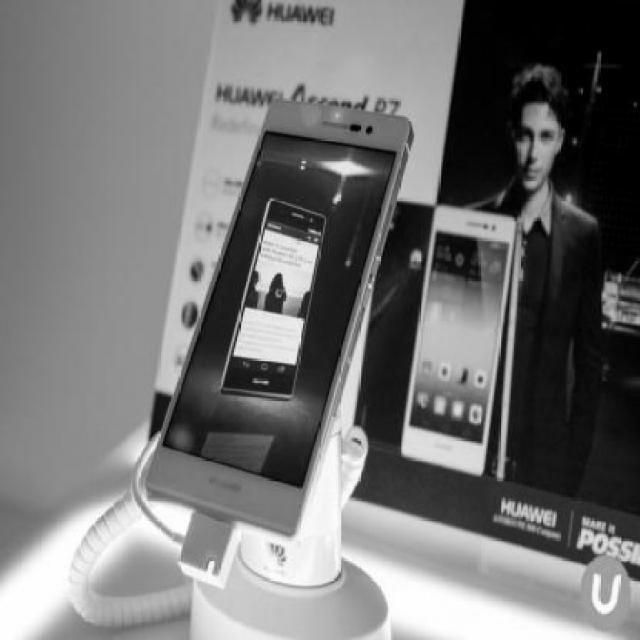fake: (104, 129, 416, 594), (394, 208, 520, 476), (486, 222, 524, 484)
